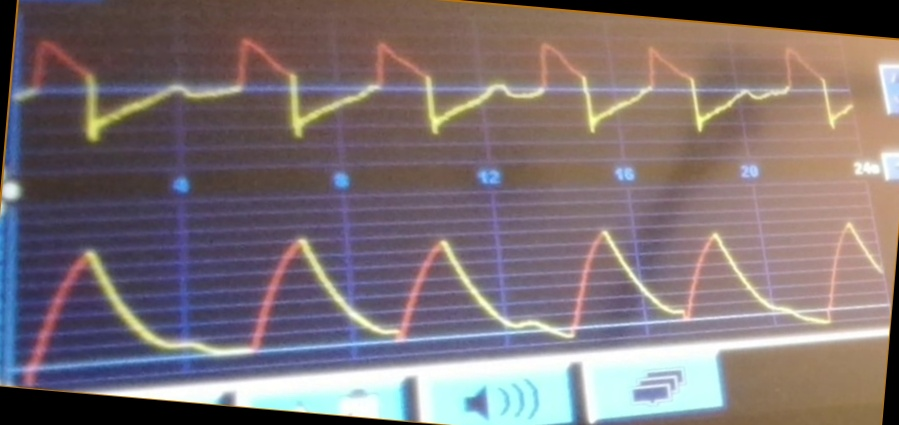Ineffective_effort Flow: (21, 29, 852, 144)
Ineffective_effort Volume: (21, 215, 884, 370)
